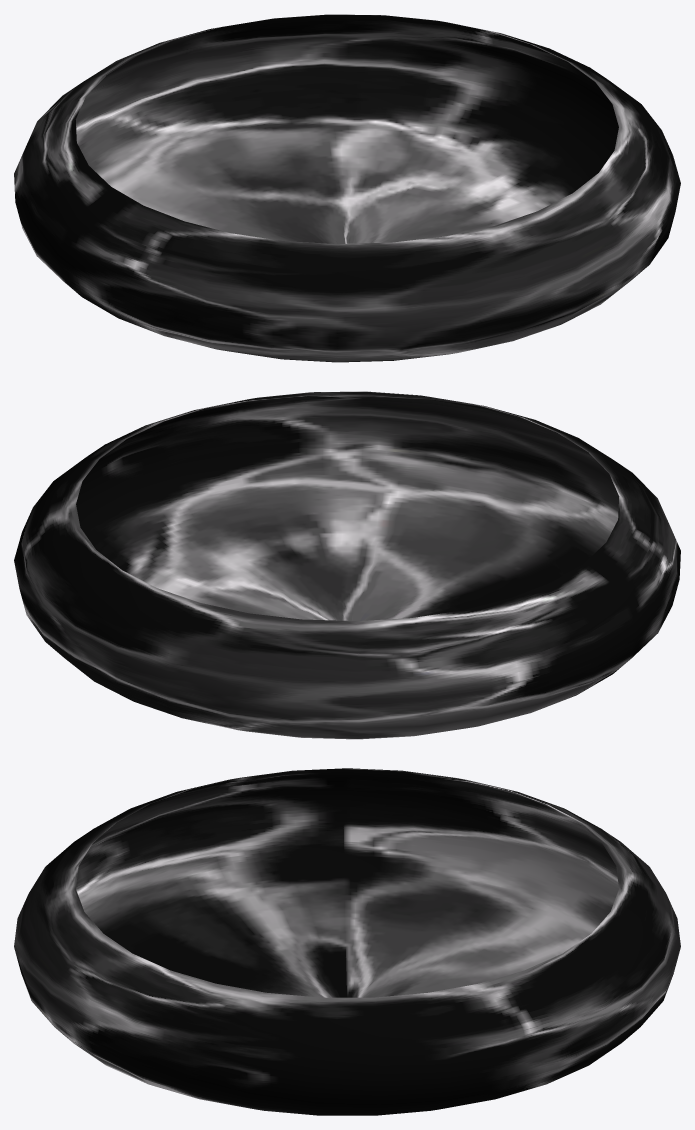
Rendered from fx_donghuangzhong_qilang_mesh.fbx.
3 renders of one model, top to bottom at view 1: azimuth 30°, elevation 25°; view 2: azimuth 150°, elevation 25°; view 3: azimuth 270°, elevation 25°, orthographic.
Visible parts, largest first — view 1: revolvedSurface1; view 2: revolvedSurface1; view 3: revolvedSurface1.
Boxes of the visible parts, x1=… form: revolvedSurface1: x1=14, y1=14, x2=680, y2=362; revolvedSurface1: x1=14, y1=391, x2=680, y2=739; revolvedSurface1: x1=14, y1=768, x2=680, y2=1115.
Bounding box in the file's own units: 56.21 × 12.15 × 56.28.
